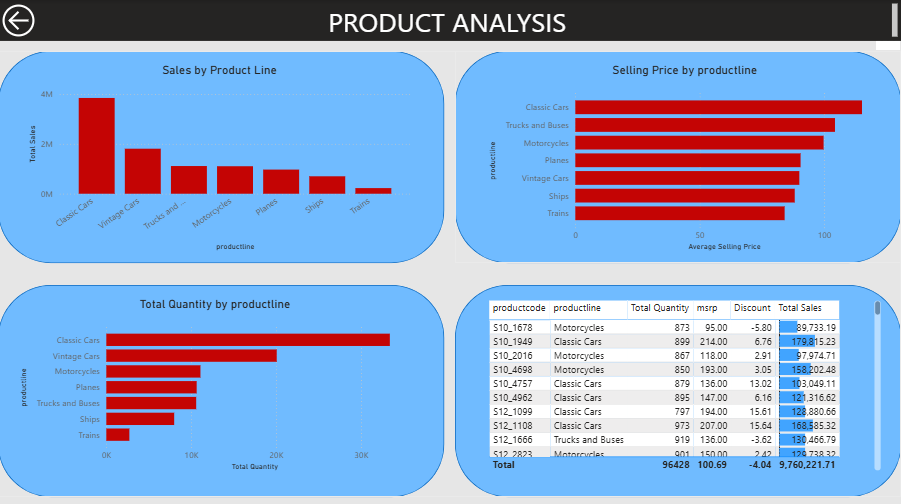

Layout of this report page (visuals, bound fields, positions):
{"tool":"powerbi","page":{"name":"Product Perfomance","canvas":[1280,720],"ordinal":2},"visuals":[{"type":"group","id":"g1","title":"Group 1","box":[0,71.7,1280,632.8],"z":0},{"type":"shape","box":[0,71.7,632.6,300.7],"z":0,"group":"g1"},{"type":"textbox","box":[0,0,1280.2,57.6],"z":1000},{"type":"shape","box":[647.4,71.7,632.6,300.7],"z":1000,"group":"g1"},{"type":"columnChart","title":"Sales by Product Line","fields":{"Category":["FactSales.productline"],"Y":["Datetable.Total Sales"]},"box":[38.2,89.2,551.7,271.3],"z":2000},{"type":"shape","box":[0,403.6,632.6,300.7],"z":2000,"group":"g1"},{"type":"shape","box":[647.4,403.6,632.6,300.7],"z":3000,"group":"g1"},{"type":"barChart","fields":{"Y":["Datetable.Total Quantity"],"Category":["FactSales.productline"]},"box":[25.5,420.6,564.4,251.3],"z":3000},{"type":"barChart","title":"Selling Price by productline","fields":{"Y":["Datetable.Average Selling Price"],"Category":["FactSales.productline"]},"box":[690.1,89.2,566.3,271.3],"z":4000},{"type":"tableEx","fields":{"Values":["FactSales.productcode","FactSales.productline","Datetable.Total Quantity","Avg(FactSales.msrp)","Avg(FactSales.percent_discount)","Datetable.Total Sales"]},"box":[690.1,420.6,566.3,251.3],"z":5000},{"type":"actionButton","box":[0,0,113.4,58.1],"z":6000}]}

Visuals, with their boxes in screenshot pixels (x1, y1, x2, y2), scaled from the page's 1280x720 canvas onto the 901x504 screenshot:
"Group 1" group: [0,50,900,493]
shape: [0,50,445,261]
textbox: [0,0,900,40]
shape: [456,50,900,261]
"Sales by Product Line" columnChart: [27,62,415,252]
shape: [0,283,445,493]
shape: [456,283,900,493]
barChart - Datetable.Total Quantity x FactSales.productline: [18,294,415,470]
"Selling Price by productline" barChart: [486,62,884,252]
tableEx - FactSales.productcode x FactSales.productline: [486,294,884,470]
actionButton: [0,0,80,41]
